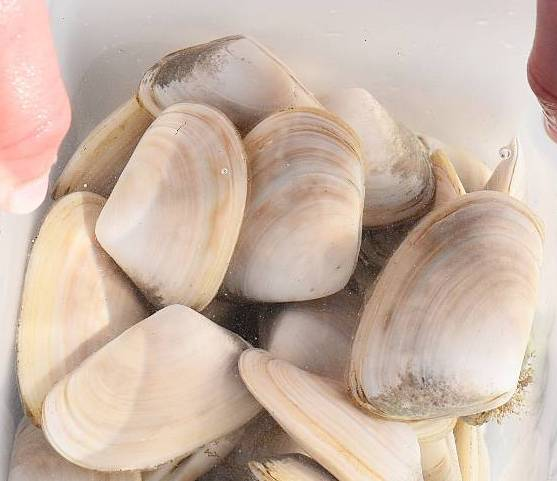tuatua: (345, 187, 548, 420), (38, 302, 266, 475), (97, 100, 249, 314), (14, 188, 142, 425), (220, 105, 366, 303), (236, 343, 429, 481), (134, 31, 329, 117), (332, 79, 438, 230)
